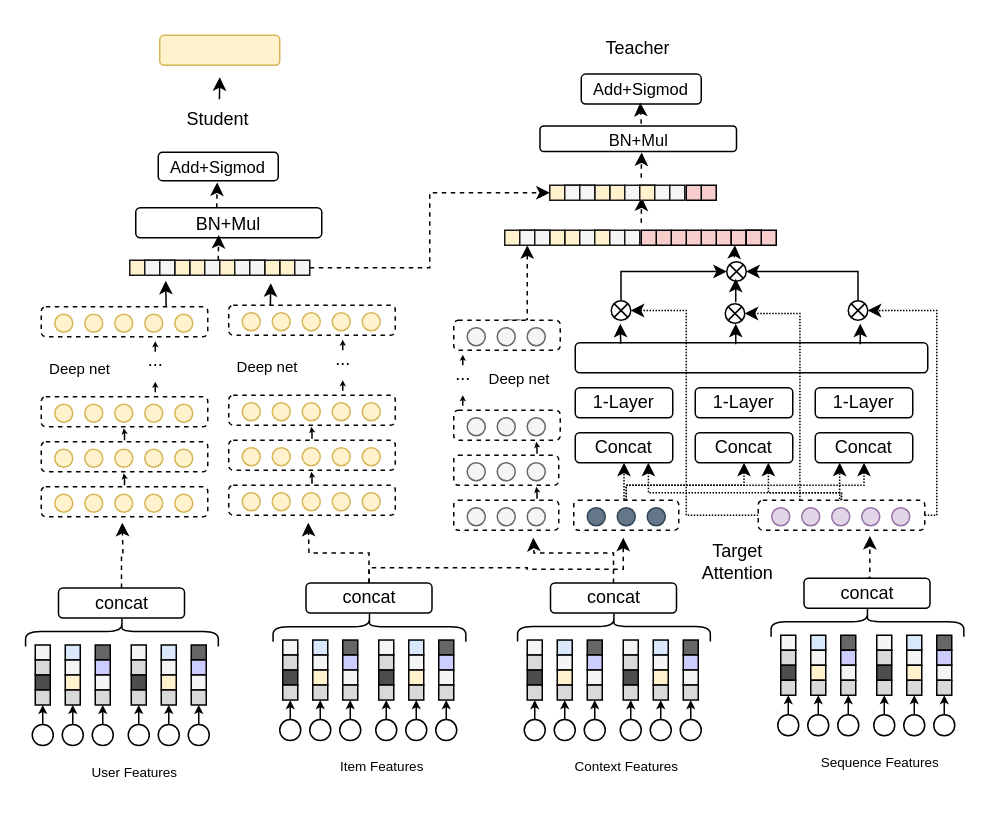
Image size: 993x821. Some labels were removed from this diagram. Here are the shapes that lost their labels. From the top down, the centre of each, then its label:
(x=219, y=49): Predict
(x=751, y=357): Softmax
